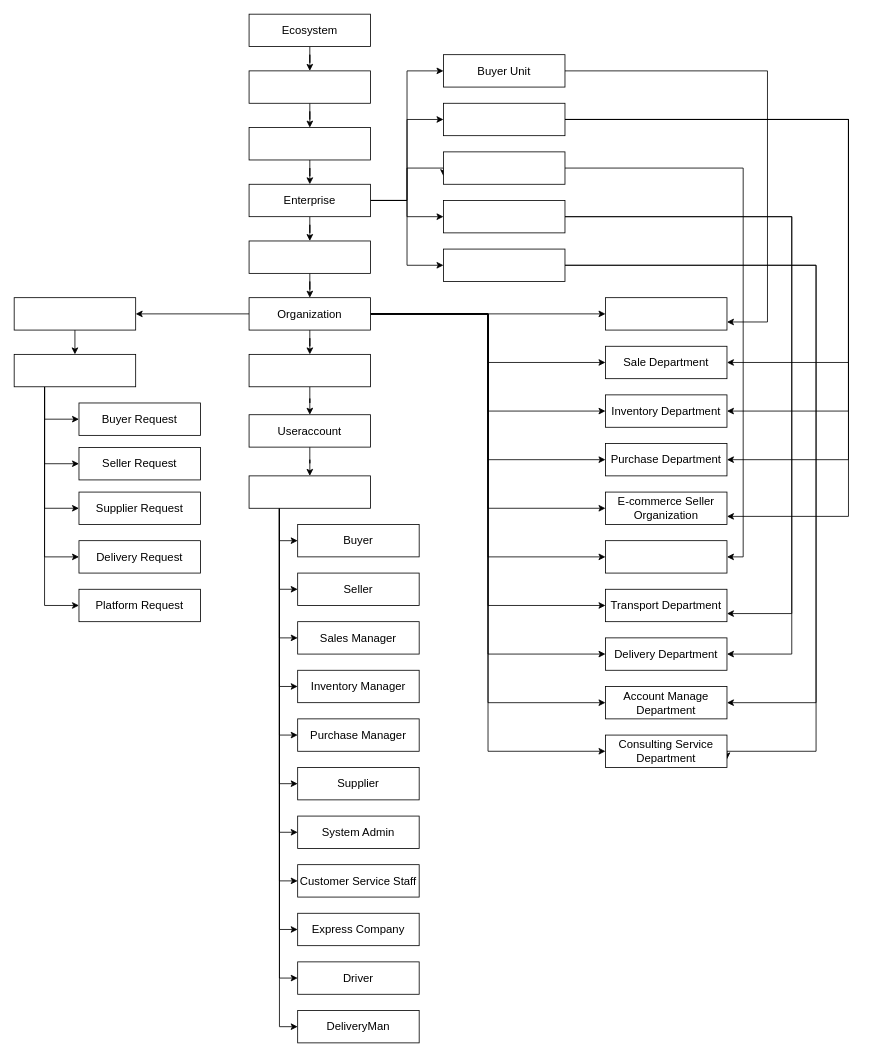
This 869x1057 diagram has some shape labels left out. Each missing label, with the centre of its shape:
"E-commerce Customer Organization" belongs at (x=666, y=313).
"E-commerce Platform" belongs at (x=504, y=264).
"E-commerce Supplier Organization" belongs at (x=666, y=556).
"Enterprise Directory" belongs at (x=309, y=143).
"Express Company Unit" belongs at (x=504, y=216).
"Network" belongs at (x=309, y=86).
"Organization Directory" belongs at (x=309, y=256).
"Roles" belongs at (x=309, y=491).
"Seller Unit" belongs at (x=504, y=119).
"Supplier Unit" belongs at (x=504, y=167).
"Useraccount Directory" belongs at (x=309, y=370).
"Work Queue" belongs at (x=74, y=313).
"Work Request" belongs at (x=74, y=370).
